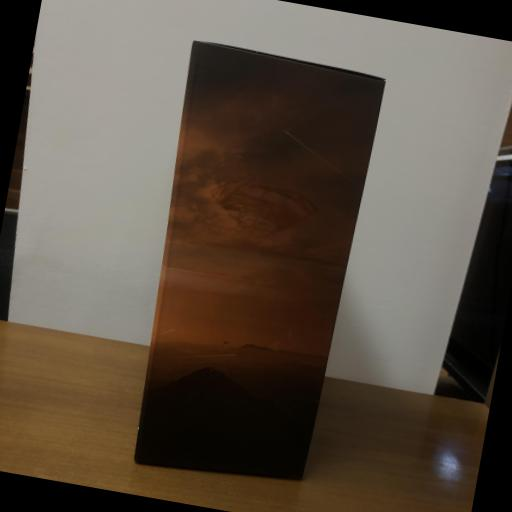superman: (122, 39, 380, 485)
